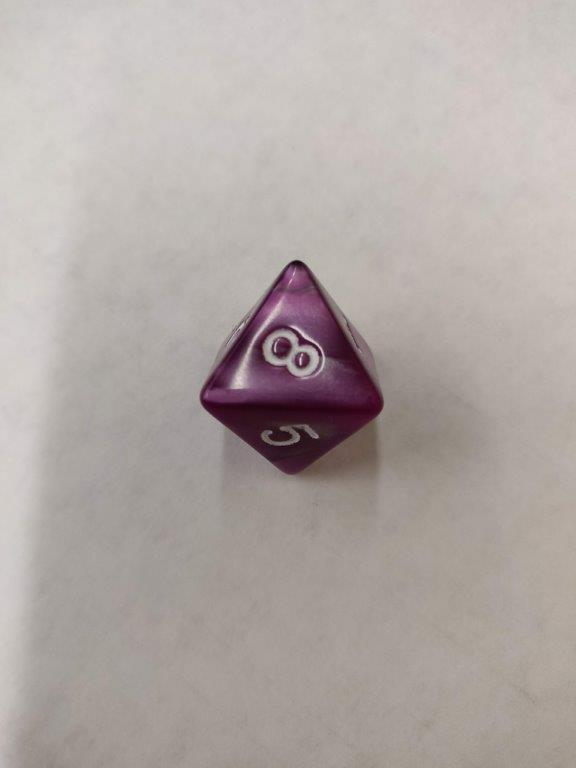d8-8: (197, 257, 384, 481)
